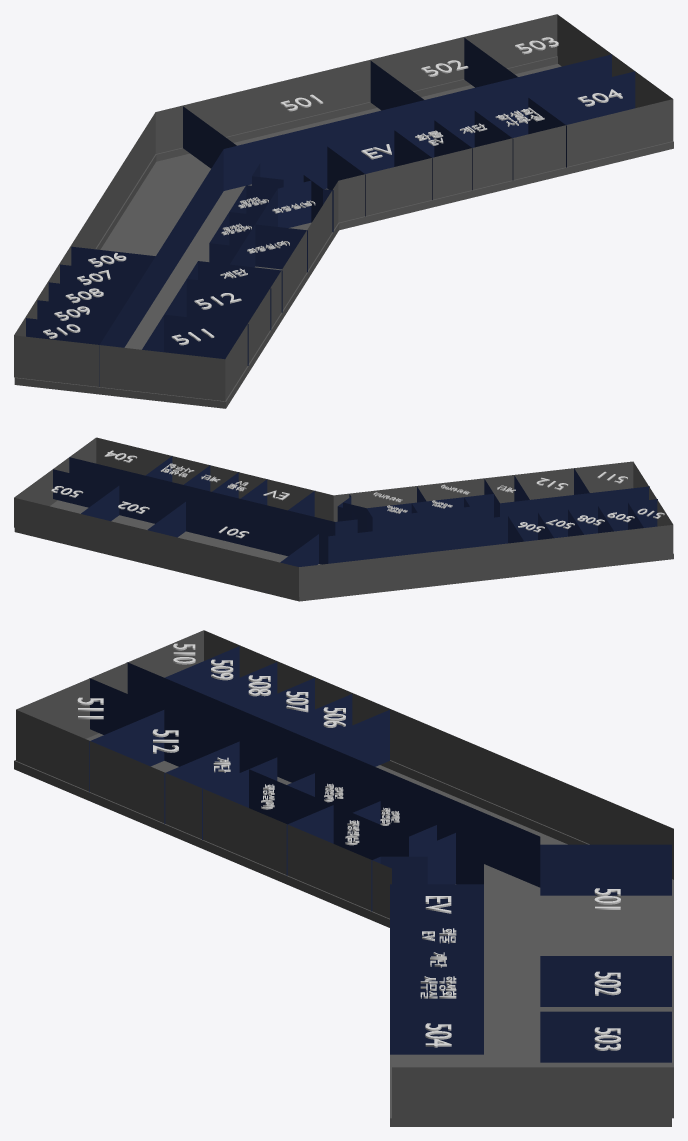
File: 5floor.glb
3 views of the same model, one above another, from view 1: azimuth 30°, elevation 25°; view 2: azimuth 150°, elevation 25°; view 3: azimuth 270°, elevation 25° (orthographic). The views are drawn at different scales.
Visible parts, largest first — view 1: FloorAndWalls_4F, InnerWalls_4F; view 2: FloorAndWalls_4F, InnerWalls_4F; view 3: FloorAndWalls_4F, InnerWalls_4F.
Part boxes in pixels (x1=…): FloorAndWalls_4F: x1=14, y1=14, x2=673, y2=408; InnerWalls_4F: x1=26, y1=38, x2=635, y2=386; FloorAndWalls_4F: x1=14, y1=437, x2=673, y2=601; InnerWalls_4F: x1=53, y1=456, x2=657, y2=566; FloorAndWalls_4F: x1=14, y1=630, x2=673, y2=1126; InnerWalls_4F: x1=89, y1=646, x2=671, y2=1062.
Bounding box in the file's own units: 550 × 35.5 × 351.
